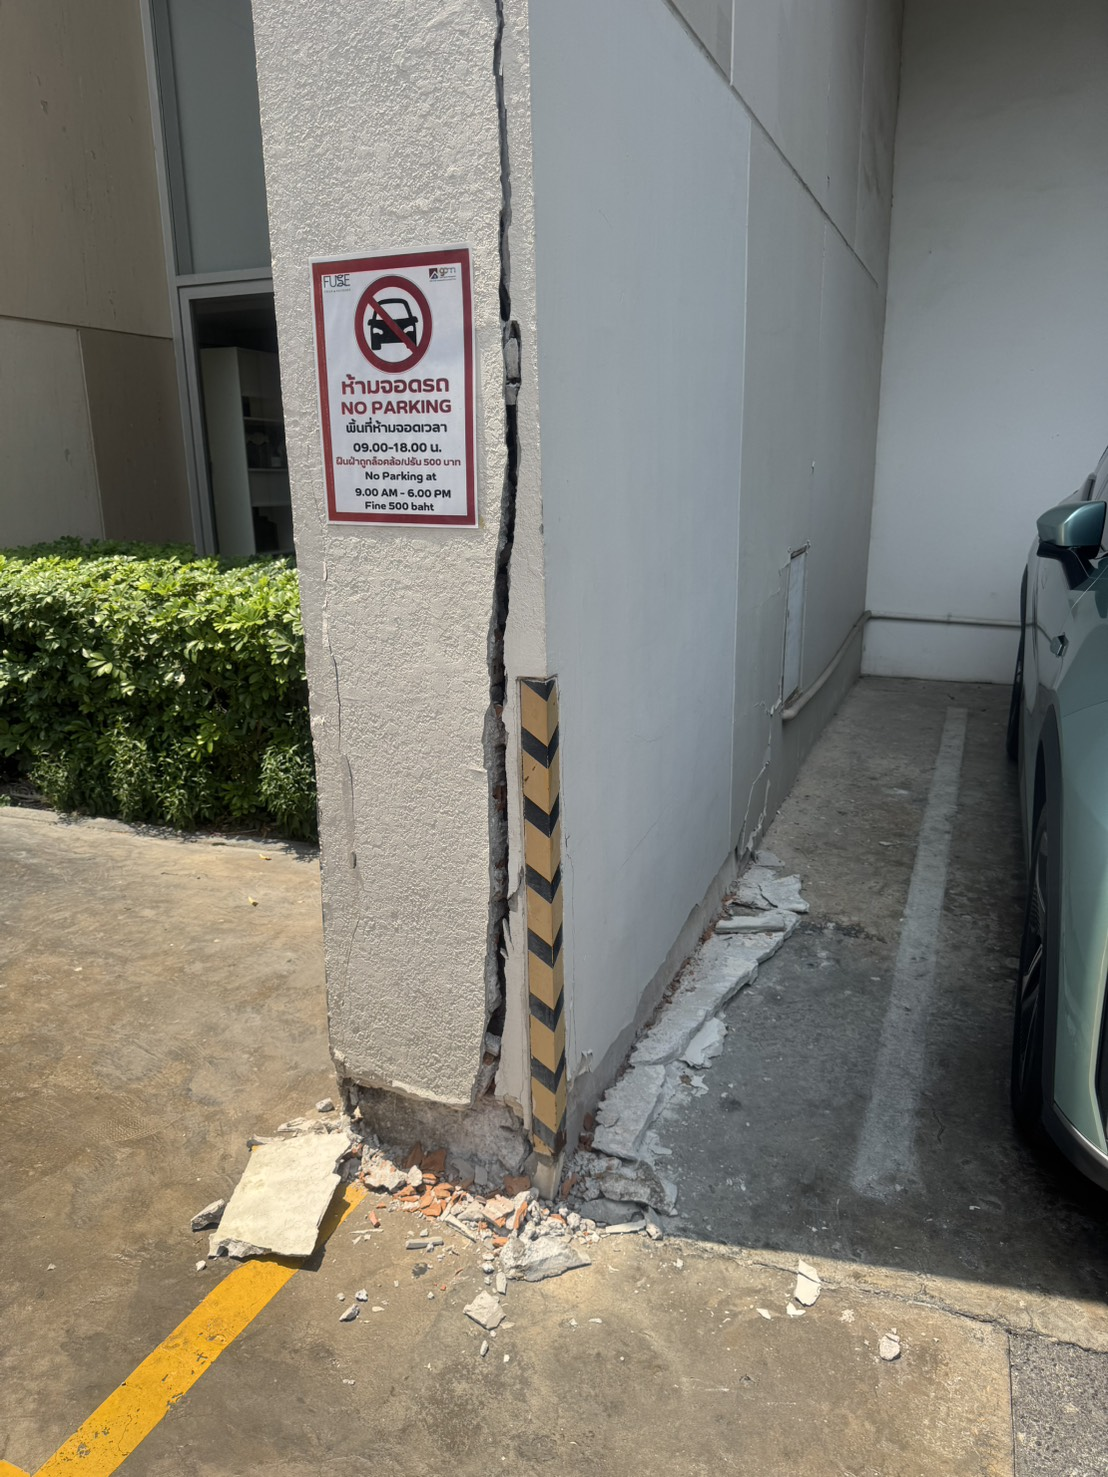High: (293, 1, 548, 1190)
